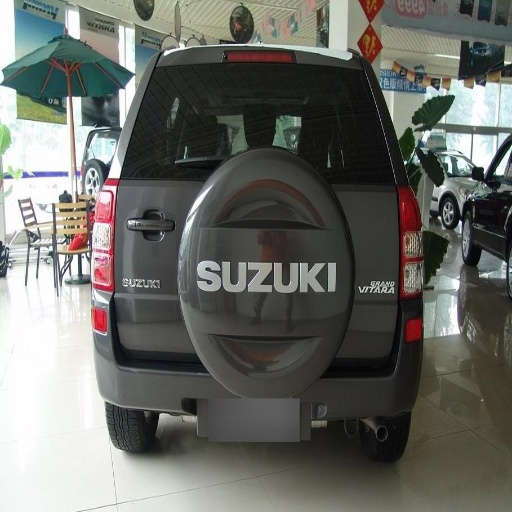back_bumper: (92, 315, 422, 427)
tailgate: (282, 308, 344, 346)
trunk: (122, 215, 397, 366)
